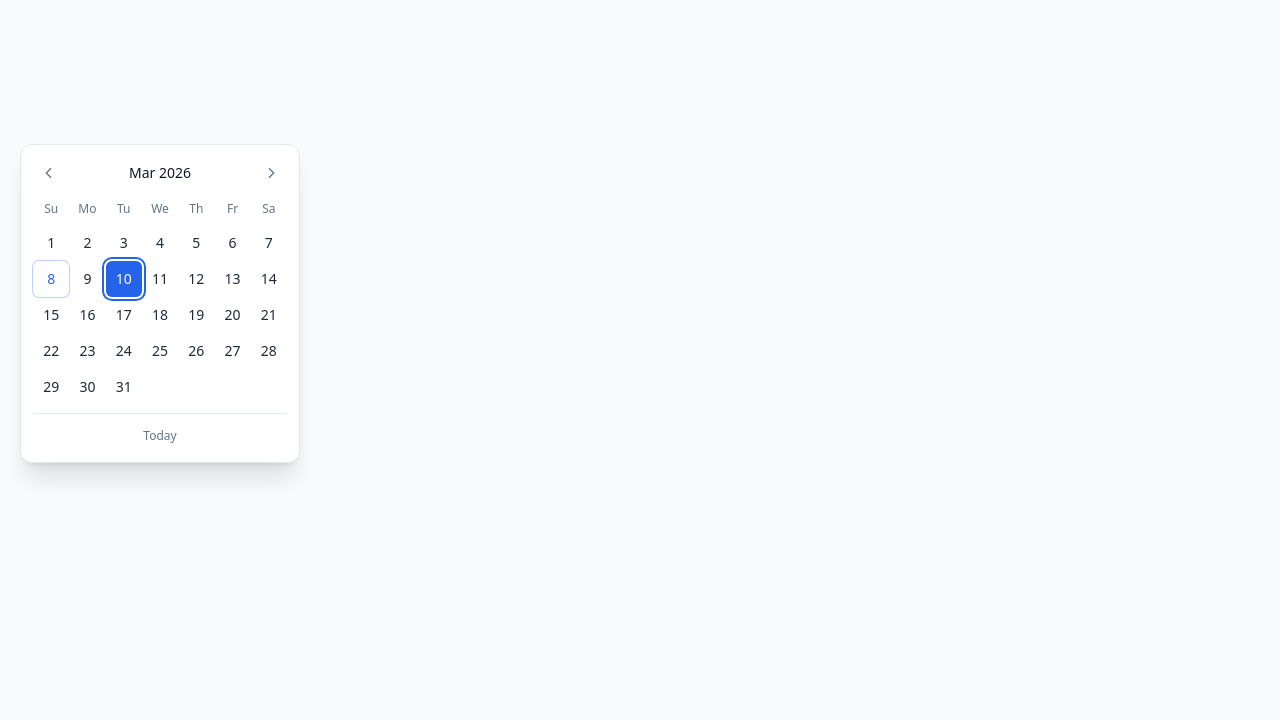
Test: CalendarPopup › month navigation › navigates to next month
The width and height of the screenshot is (1280, 720).
Click the button named "Next month": (271, 173) [255,157,287,189]
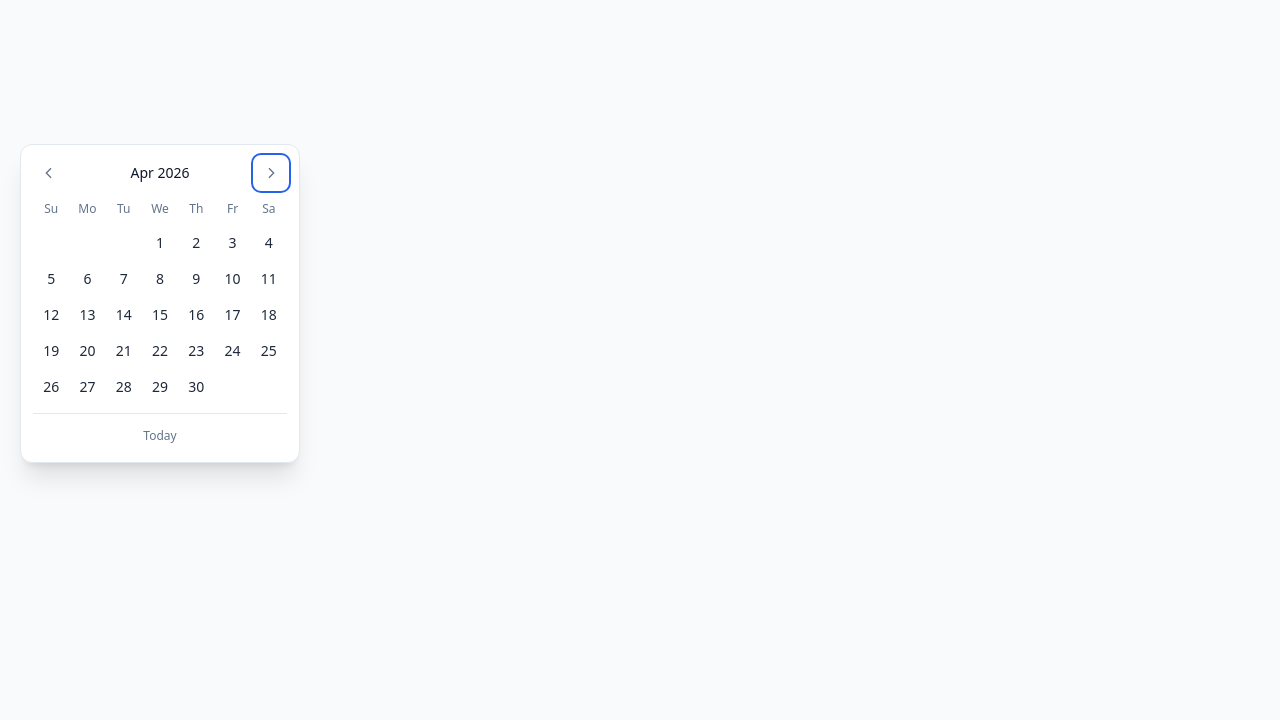
Check: the text "Apr 2026" is shown, box [130,163,190,183]
